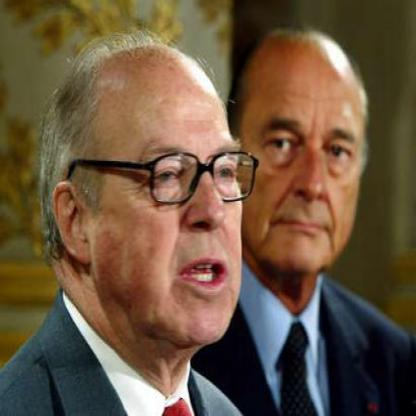face: (84, 45, 258, 360), (232, 31, 375, 278)
